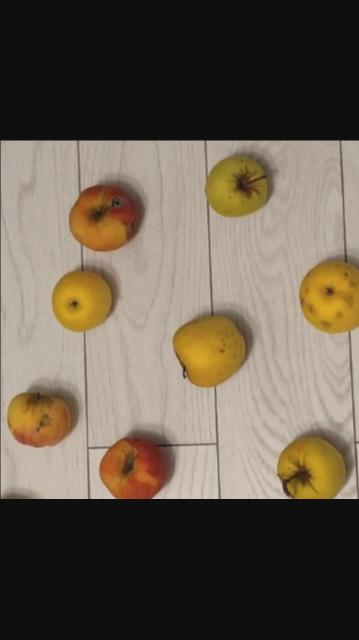apple_green: (171, 316, 243, 386), (274, 436, 344, 499), (299, 263, 359, 334), (204, 155, 266, 217), (50, 269, 111, 331)
apple_red: (68, 185, 137, 252), (98, 437, 166, 499), (6, 392, 71, 448)
